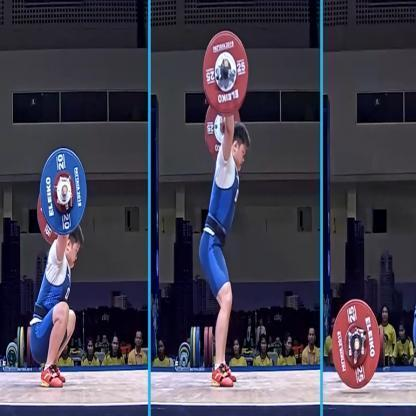barbell: (202, 30, 247, 158), (38, 147, 86, 243), (333, 298, 382, 389)
